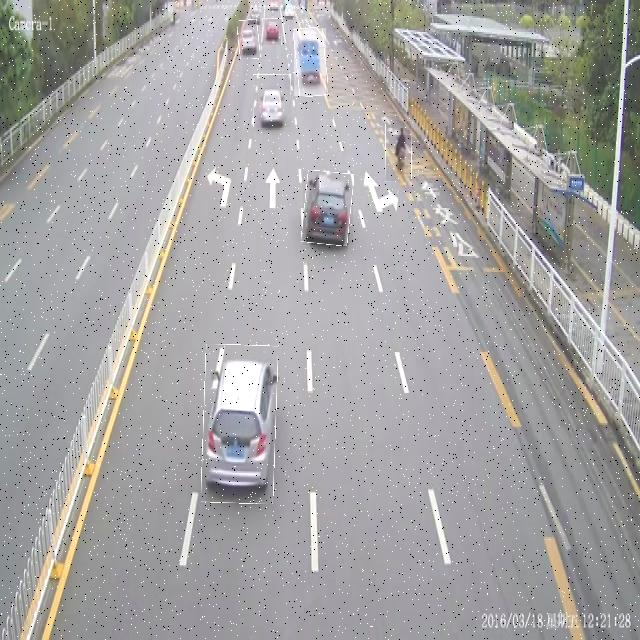Car: (202, 344, 277, 504), (303, 171, 353, 245), (253, 74, 291, 127), (238, 20, 260, 59), (262, 18, 282, 45)
Motorcycle: (386, 120, 412, 182)
Truck: (294, 28, 326, 96)
